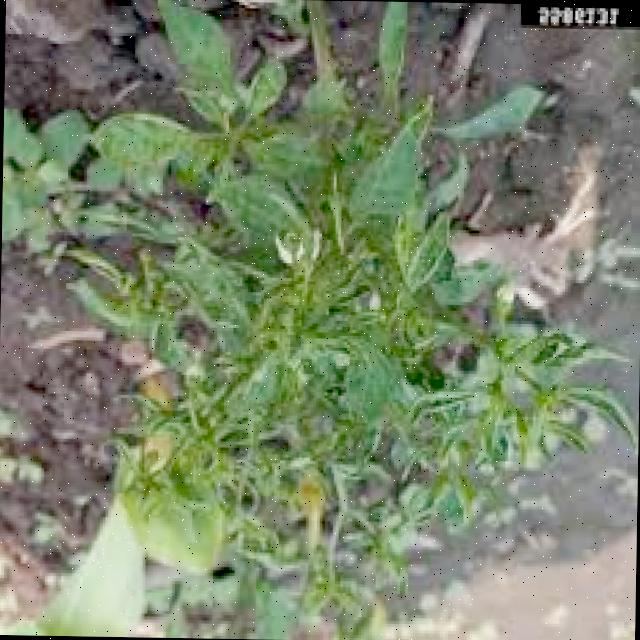leaf curl: (200, 67, 638, 524)
